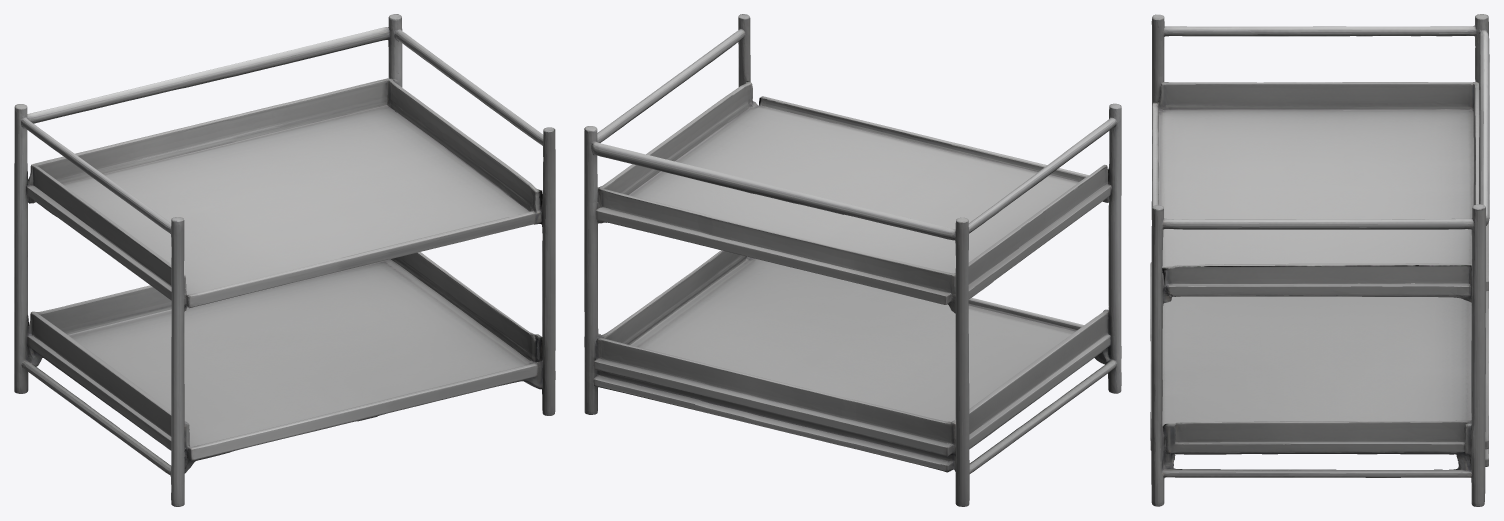
File: new_rack.glb
3 views of the same model, side by side, from view 1: azimuth 30°, elevation 25°; view 2: azimuth 150°, elevation 25°; view 3: azimuth 270°, elevation 25° (orthographic). The views are drawn at different scales.
Parts seen in each view (by area): view 1: world; view 2: world; view 3: world.
Part boxes in pixels (bbox=[...]): world: bbox=[14, 14, 555, 506]; world: bbox=[584, 14, 1121, 506]; world: bbox=[1150, 14, 1489, 506].
Bounding box in the file's own units: 0.9971 × 0.7074 × 0.7293.
1 material, 1 textured.
